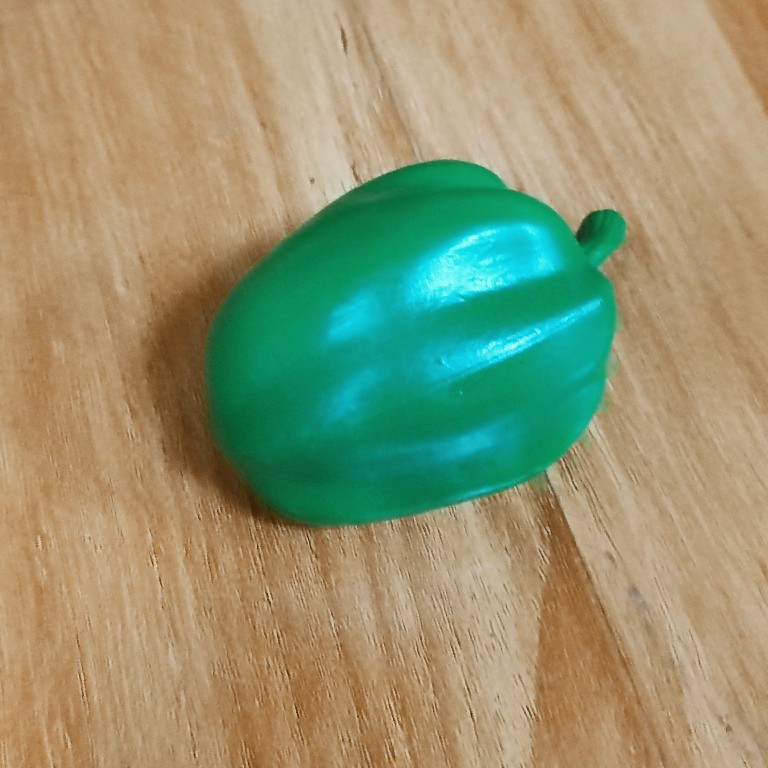fruit_pepper: (194, 154, 633, 534)
